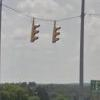Traffic light: (27, 14, 70, 53)
